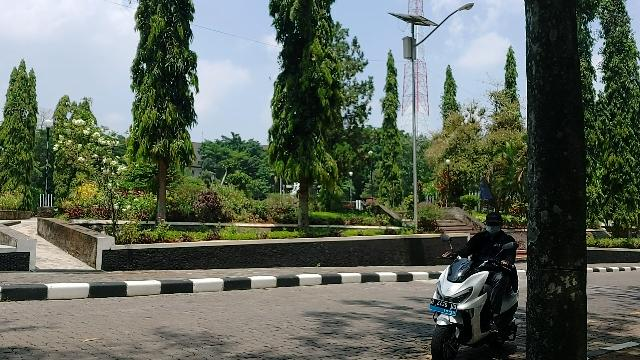motor: (430, 234, 521, 360)
non-helm: (482, 213, 504, 235)
